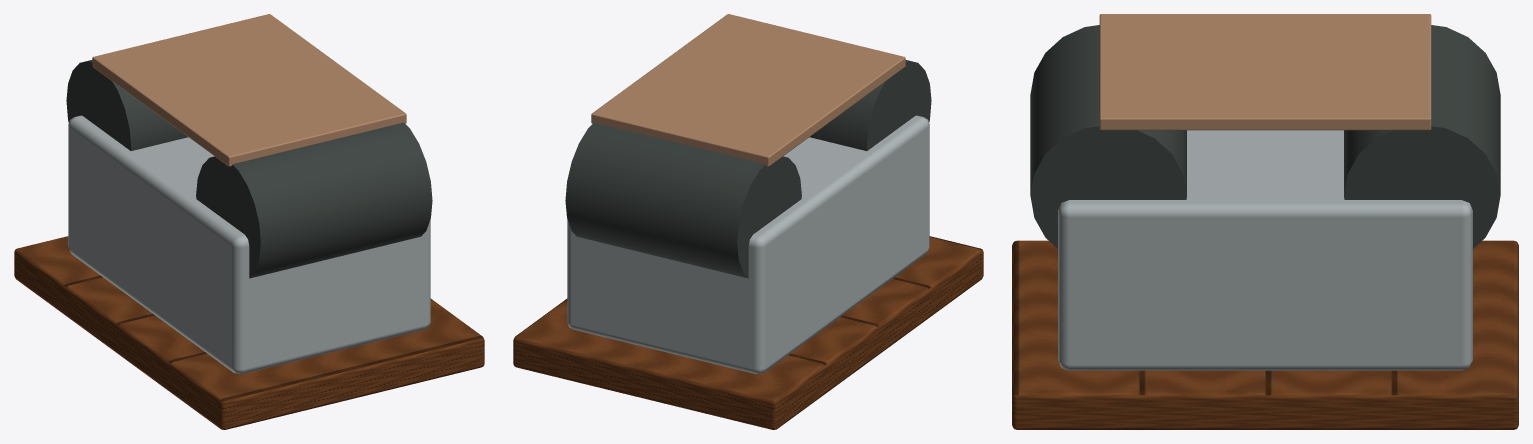
File: salvage-and-repair-workshop-belt-sander-17a5cff5__25493.glb
The picture shows the model from 3 angles, left to right: view 1: azimuth 30°, elevation 25°; view 2: azimuth 150°, elevation 25°; view 3: azimuth 270°, elevation 25°; orthographic projection. The views are drawn at different scales.
Parts seen in each view (by area): view 1: belt-sander; view 2: belt-sander; view 3: belt-sander.
Part boxes in pixels (left/top/right/bottom): belt-sander: left=14, top=14, right=484, bottom=429; belt-sander: left=513, top=14, right=983, bottom=429; belt-sander: left=1012, top=14, right=1518, bottom=429.
Size of the model in its own units: 0.4 by 0.345 by 0.55.
Materials: 4 (1 with a texture image).
